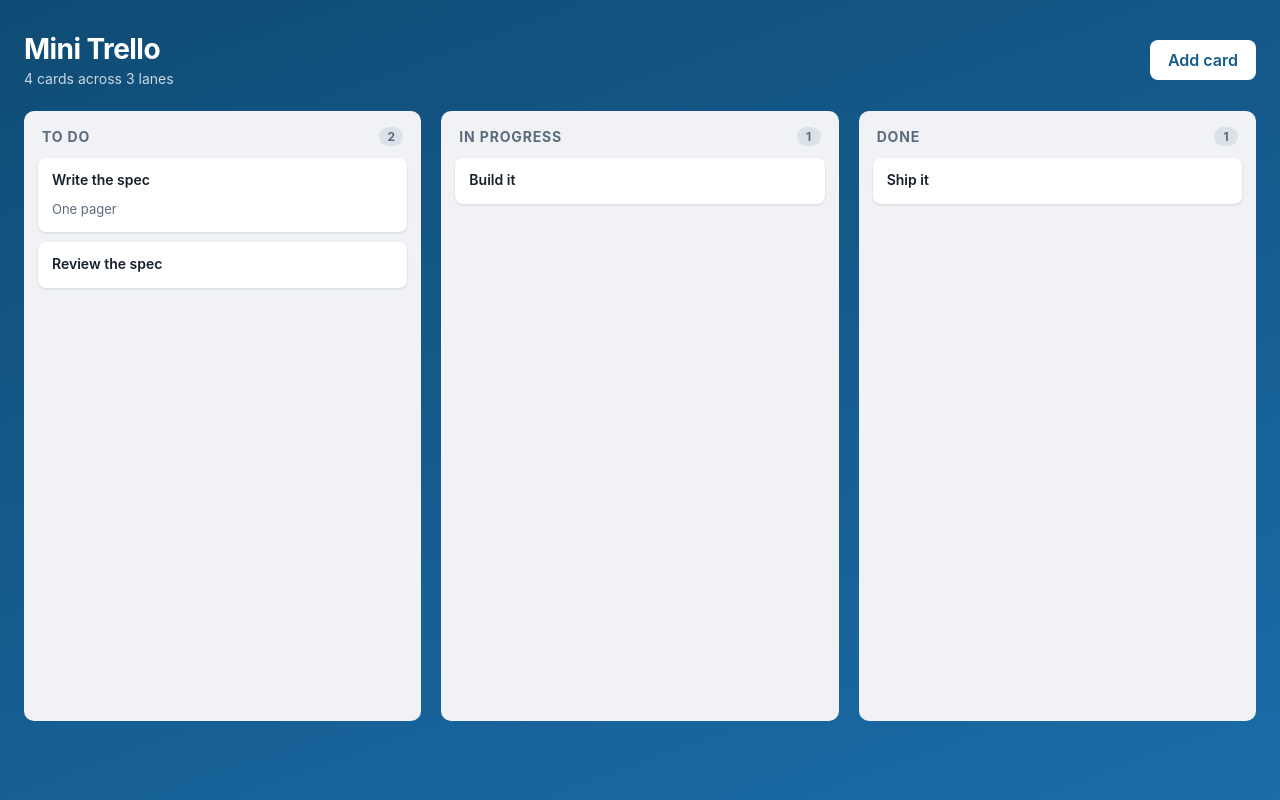
Test: MiniTrelloBoard › opens an empty form from the Add card button
Expected: the element "To Do" is shown, [24,111,421,721]
Step 1. Click the button "Add card" → (1203, 60), box [1150,40,1256,80]
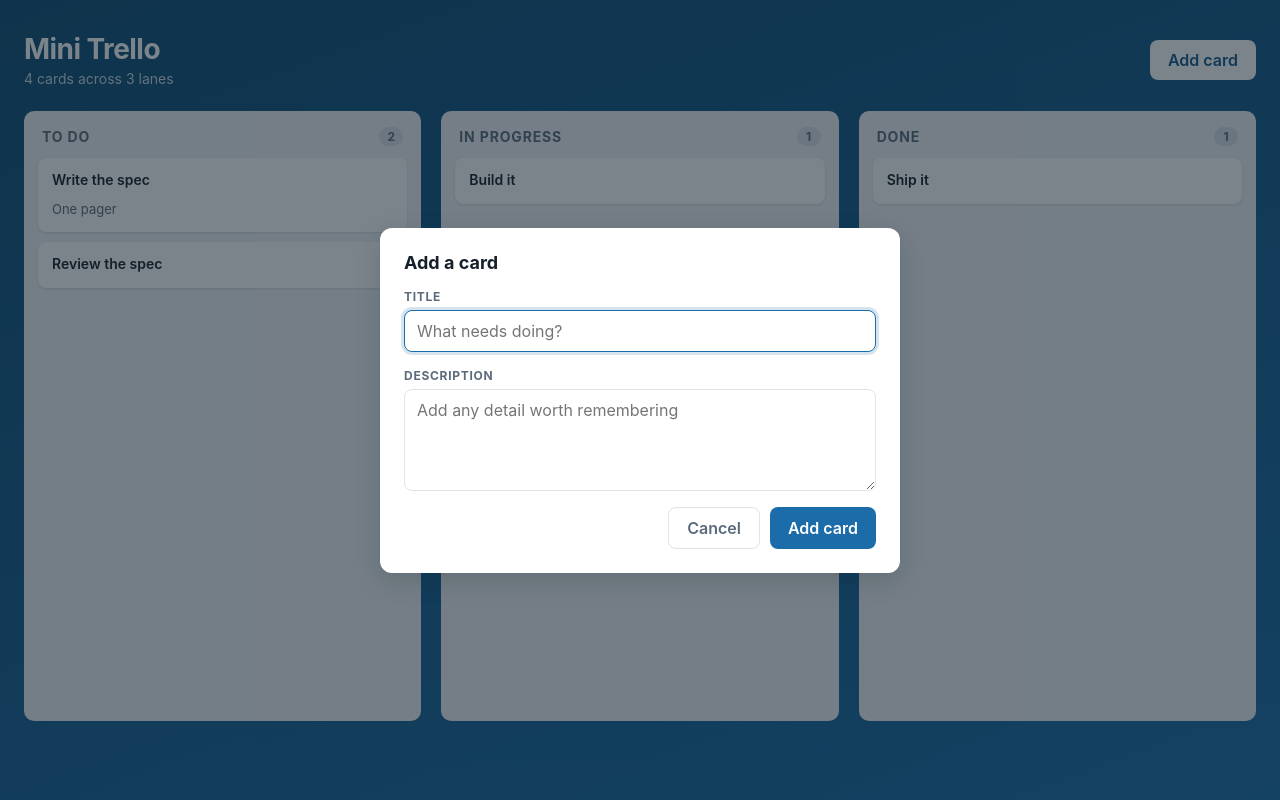
Now the heading "Add a card" is shown, box [404,252,498,272]
Now the field labelled "Title" is empty, box [404,310,876,352]
